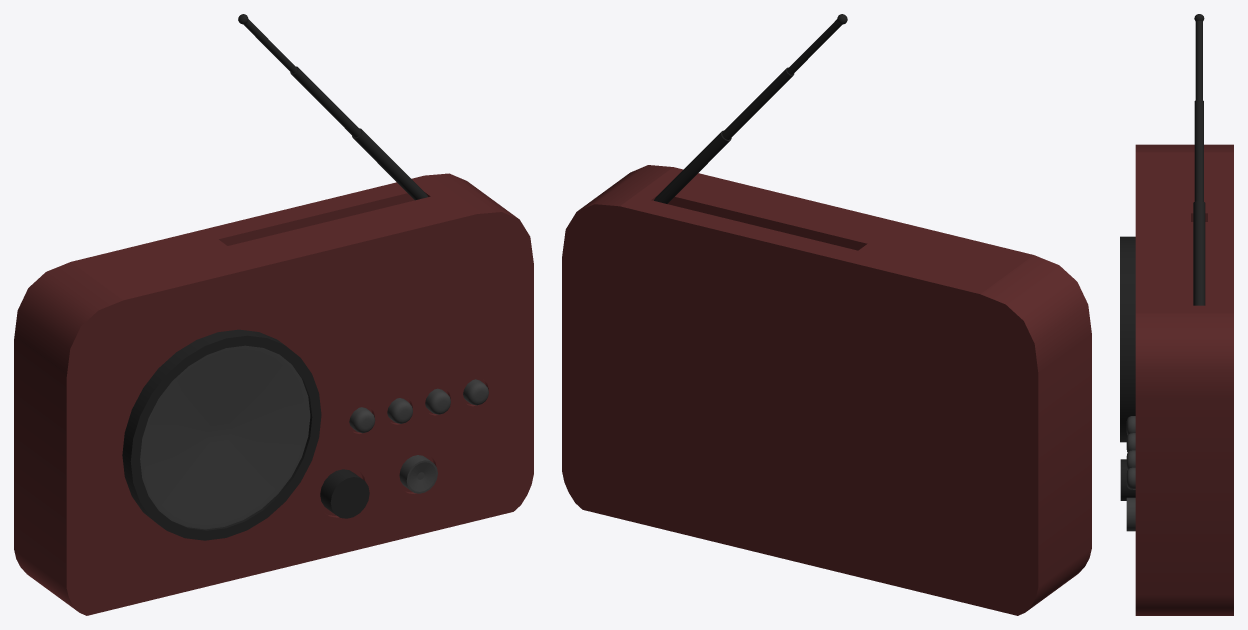
File: Radio.fbx
3 views of the same model, side by side, from view 1: azimuth 30°, elevation 25°; view 2: azimuth 150°, elevation 25°; view 3: azimuth 270°, elevation 25° (orthographic). The views are drawn at different scales.
Visible parts, largest first — view 1: Radio; view 2: Radio; view 3: Radio.
Part boxes in pixels (box(x1,y1,x2,y2)): Radio: box(14, 14, 533, 615); Radio: box(562, 14, 1091, 615); Radio: box(1120, 14, 1233, 615).
Size of the model in its own units: 42.22 by 45.75 by 9.55.
